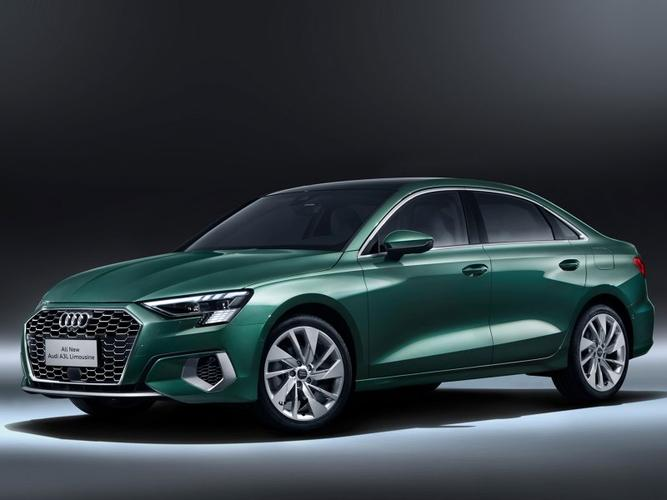汽车: (19, 174, 660, 434)
